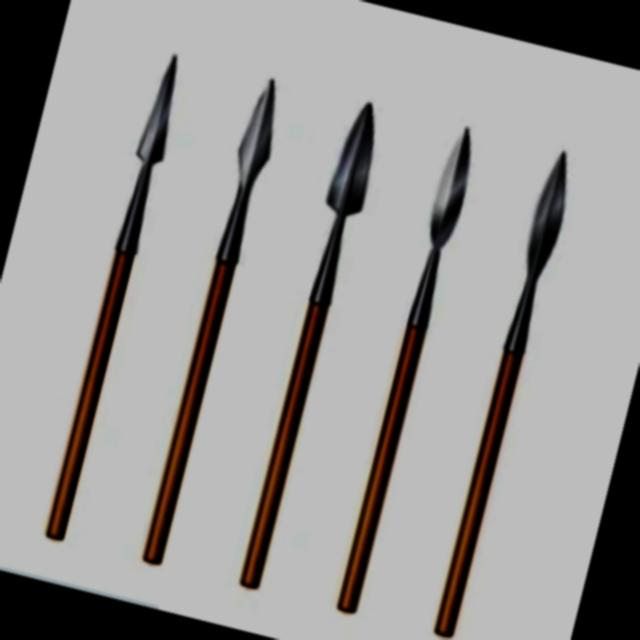spear: (218, 88, 404, 600), (26, 29, 197, 548), (416, 137, 590, 640), (320, 115, 488, 628), (128, 66, 291, 575)
